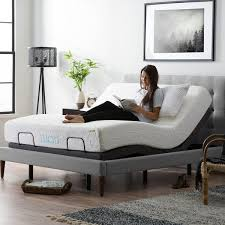bed-matress: (3, 82, 213, 160)
